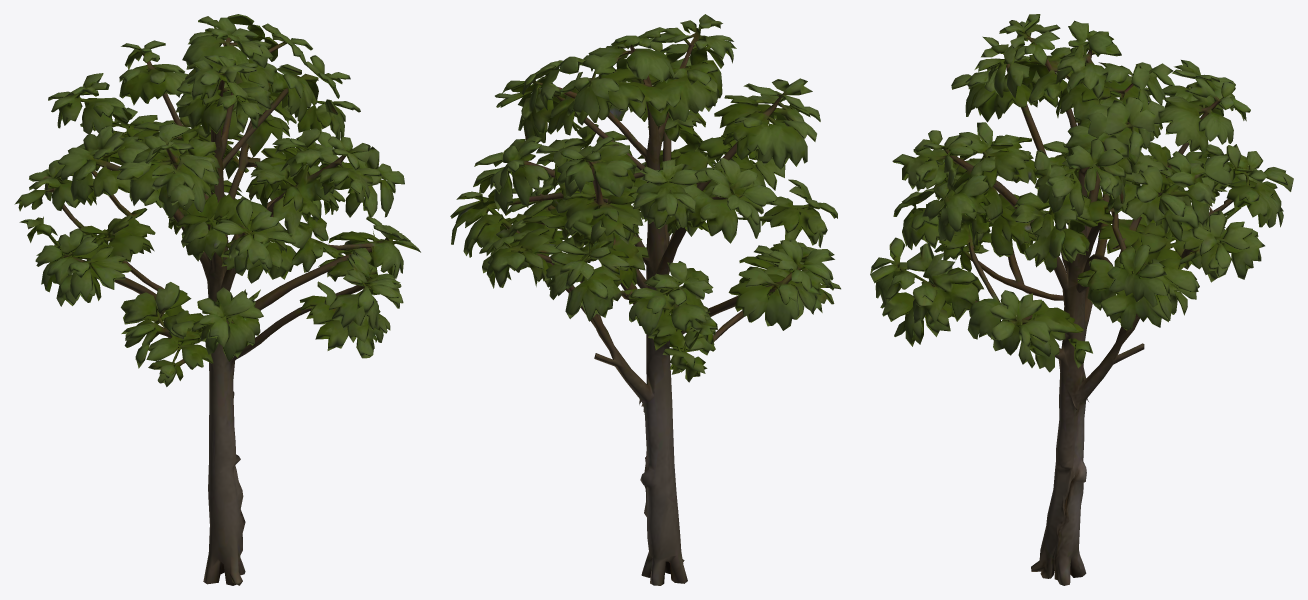
The model's file is tree-irregular-canopy-b.glb.
3 views of the same model, side by side, from view 1: azimuth 30°, elevation 25°; view 2: azimuth 150°, elevation 25°; view 3: azimuth 270°, elevation 25° (orthographic). The views are drawn at different scales.
Parts seen in each view (by area): view 1: tripo_node_a5a83124-1f1d-4dec-ae5f-f4222f911f73; view 2: tripo_node_a5a83124-1f1d-4dec-ae5f-f4222f911f73; view 3: tripo_node_a5a83124-1f1d-4dec-ae5f-f4222f911f73.
Boxes of the visible parts, box(x1,y1,x2,y2) form: tripo_node_a5a83124-1f1d-4dec-ae5f-f4222f911f73: box(14, 14, 420, 585); tripo_node_a5a83124-1f1d-4dec-ae5f-f4222f911f73: box(450, 14, 840, 585); tripo_node_a5a83124-1f1d-4dec-ae5f-f4222f911f73: box(870, 14, 1293, 585).
Size of the model in its own units: 2.28 by 3.5 by 2.44.
1 material, 1 textured.
